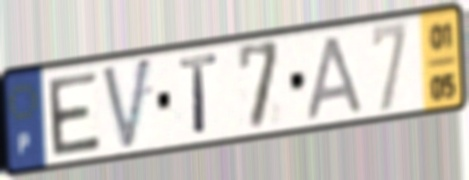7: (234, 40, 283, 135), (369, 21, 413, 114)
A: (304, 31, 366, 122)
E: (45, 68, 104, 159)
T: (176, 51, 220, 139)
V: (99, 53, 155, 155)
